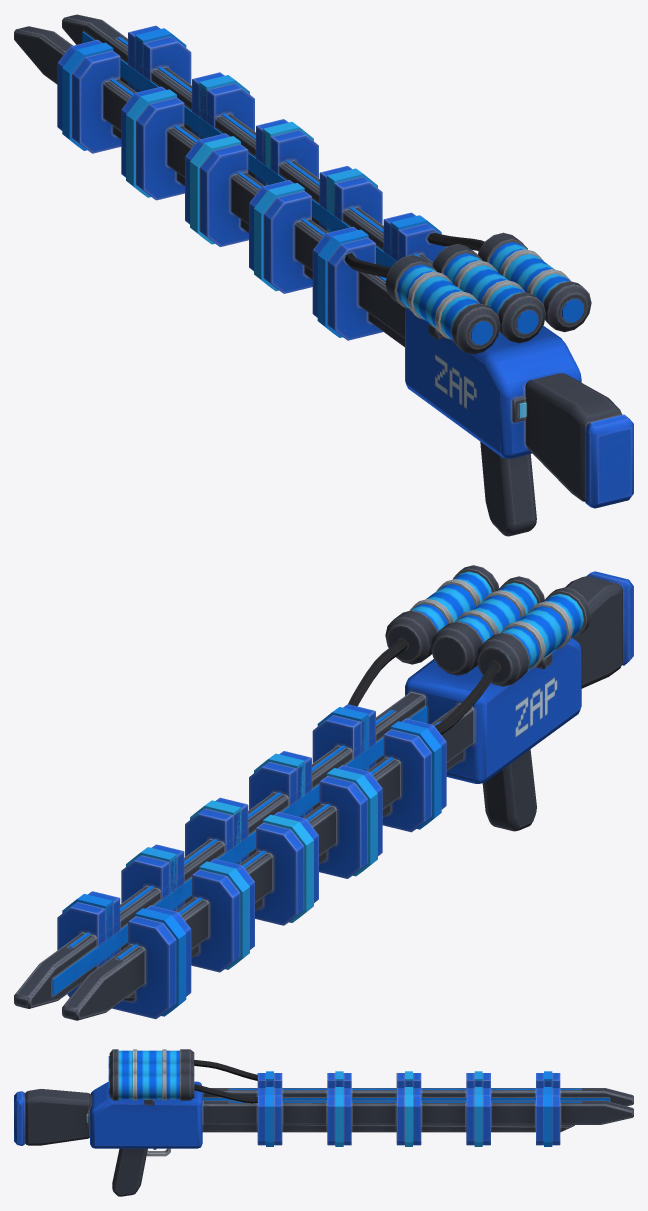
The model's file is railgun.glb.
The picture shows the model from 3 angles, top to bottom: view 1: azimuth 30°, elevation 25°; view 2: azimuth 150°, elevation 25°; view 3: azimuth 270°, elevation 25°; orthographic projection. The views are drawn at different scales.
Visible parts, largest first — view 1: railgun; view 2: railgun; view 3: railgun.
Boxes of the visible parts, left/top/right/bottom form: railgun: left=14, top=14, right=633, bottom=536; railgun: left=14, top=565, right=633, bottom=1020; railgun: left=14, top=1049, right=633, bottom=1196.
Bounding box in the file's own units: 0.208 × 0.3545 × 1.52.
Materials: 10 (10 with a texture image).
